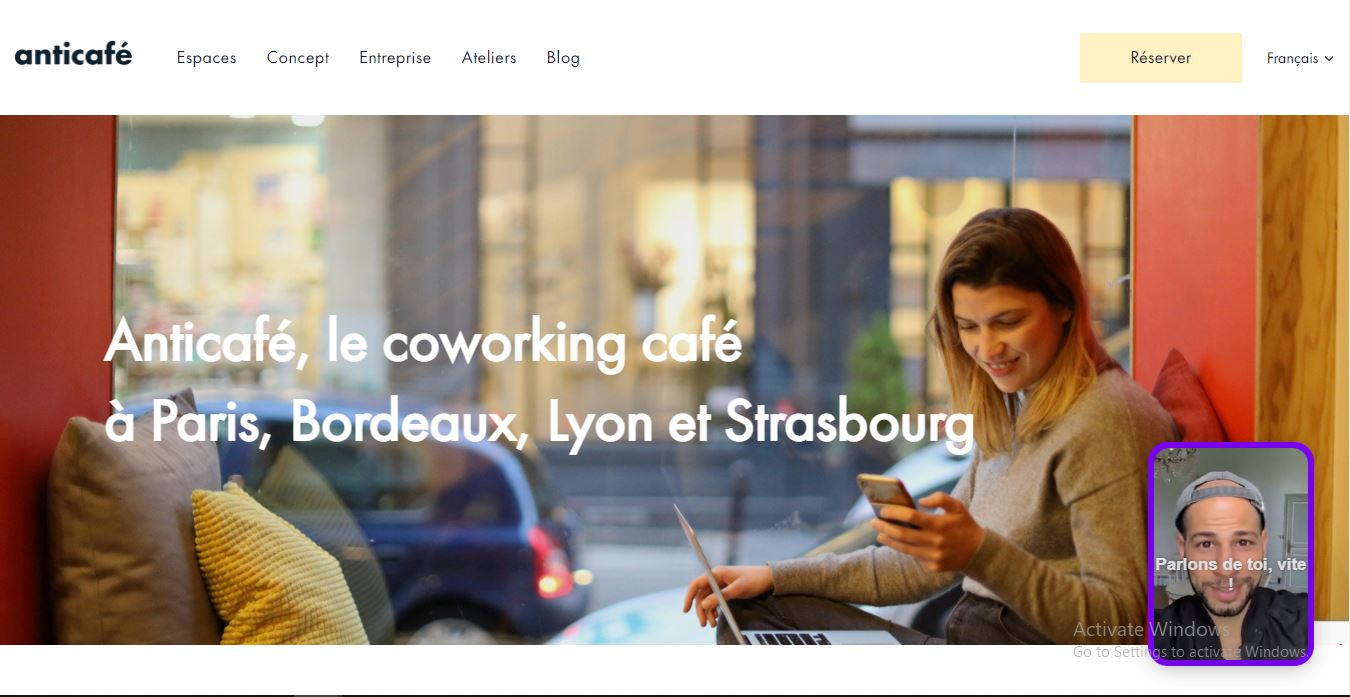Button: (1073, 28, 1238, 86)
Menu Bar: (145, 26, 621, 88)
